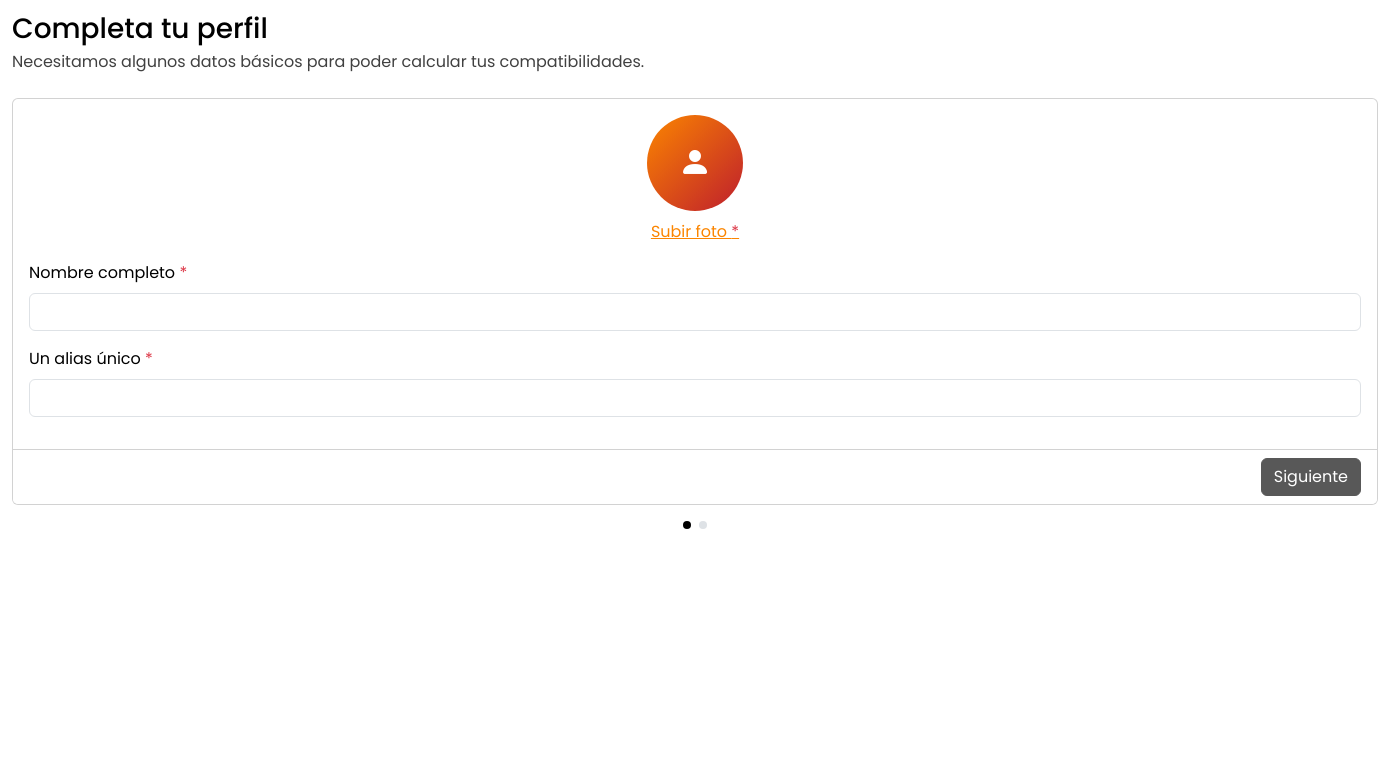
Test case: RegistrationComponent — validación en vivo de alias (tarea 13.2) › muestra que el alias ya está en uso sin bloquear el resto del formulario
Type "ocupado" into the field with id "alias".
click(695, 398); type("ocupado")  # box left=29, top=379, right=1361, bottom=417
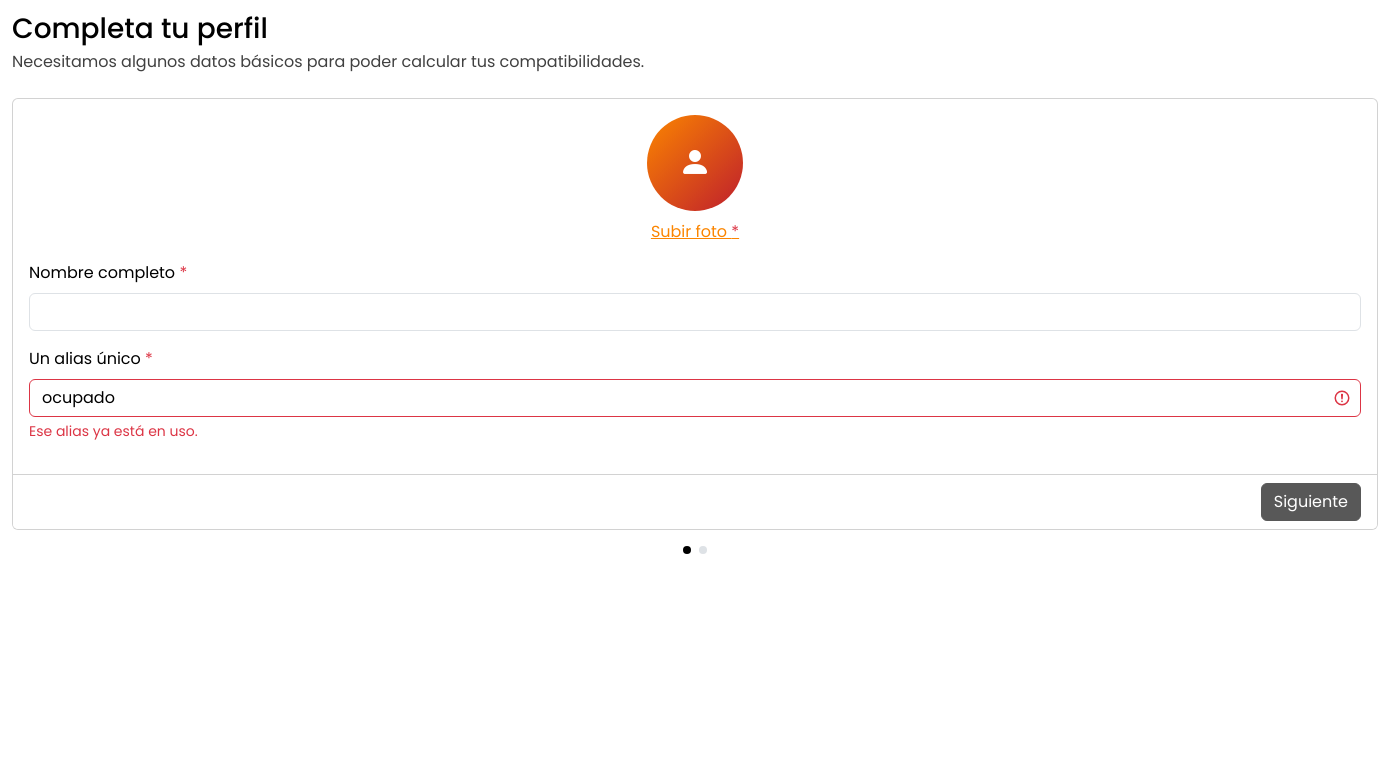
Expected: the text "Ese alias ya está en uso." is shown, left=29, top=421, right=198, bottom=441
